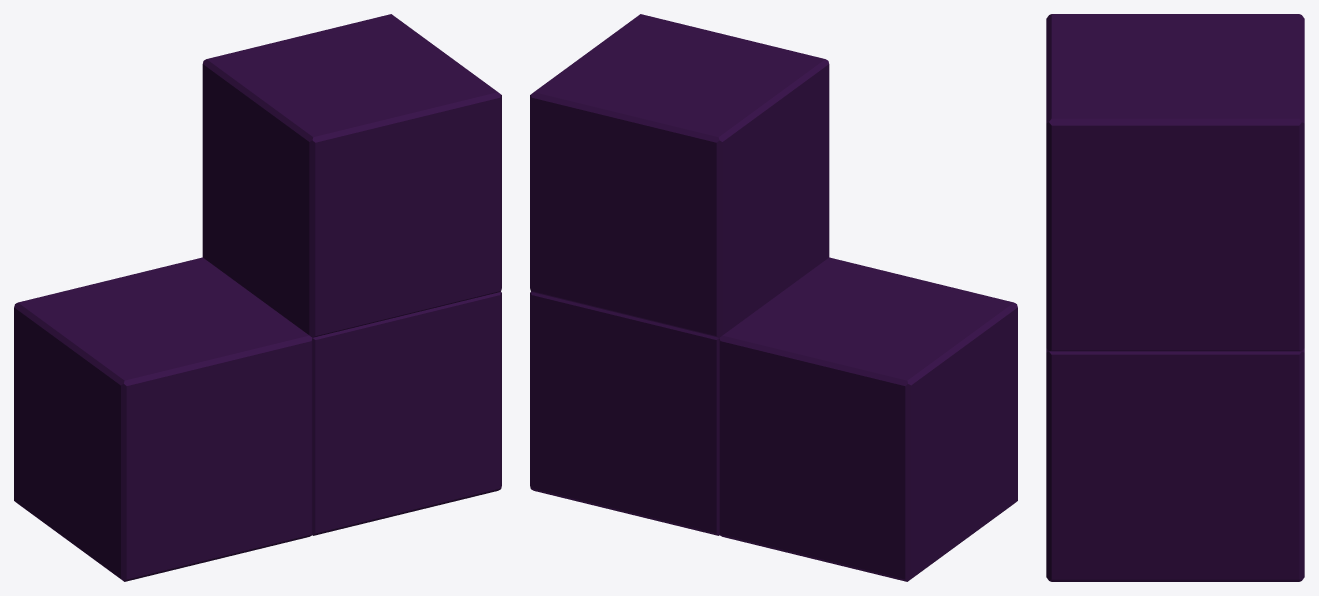
Rendered from item3.FBX.
The picture shows the model from 3 angles, left to right: view 1: azimuth 30°, elevation 25°; view 2: azimuth 150°, elevation 25°; view 3: azimuth 270°, elevation 25°; orthographic projection. The views are drawn at different scales.
Visible parts, largest first — view 1: item3; view 2: item3; view 3: item3.
Boxes of the visible parts, left/top/right/bottom form: item3: left=14, top=14, right=501, bottom=581; item3: left=530, top=14, right=1017, bottom=581; item3: left=1046, top=14, right=1304, bottom=581.
Size of the model in its own units: 20.2 by 20.2 by 10.2.
